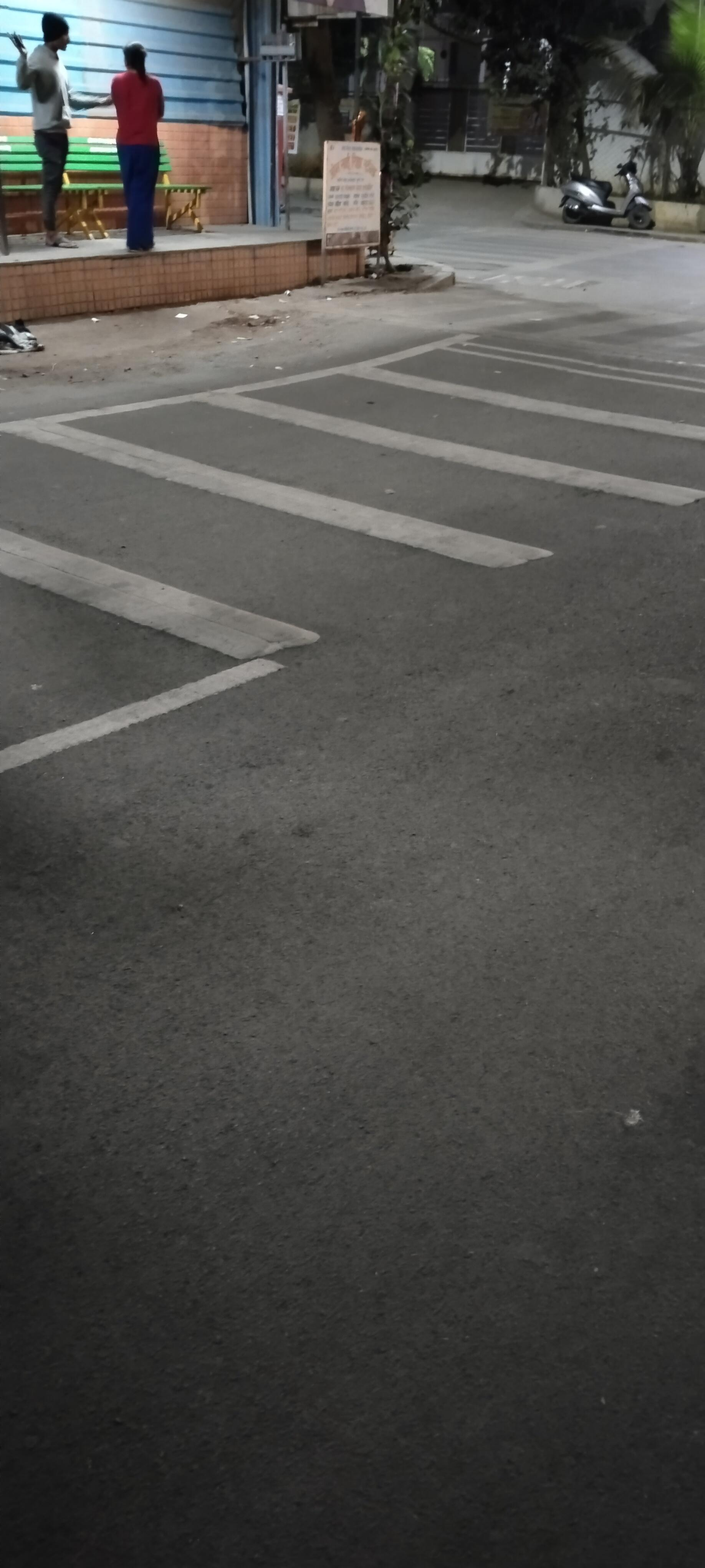crosswalk: (0, 299, 705, 778)
